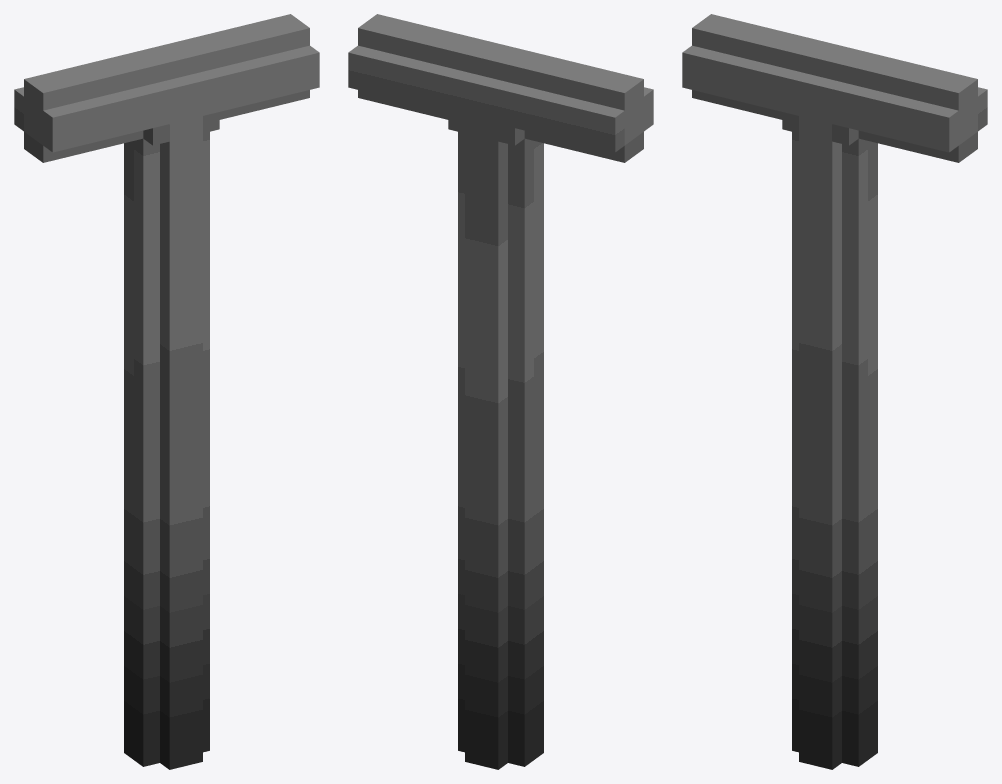
File: stick.dae
3 renders of one model, left to right at view 1: azimuth 30°, elevation 25°; view 2: azimuth 150°, elevation 25°; view 3: azimuth 330°, elevation 25°, orthographic.
Parts seen in each view (by area): view 1: stick; view 2: stick; view 3: stick.
Boxes of the visible parts, x1,y1,x2,y2 form: stick: (14,14,319,769); stick: (348,14,653,769); stick: (682,14,987,769).
Size of the model in its own units: 1.6 by 0.4 by 4.
Materials: 1 (1 with a texture image).
